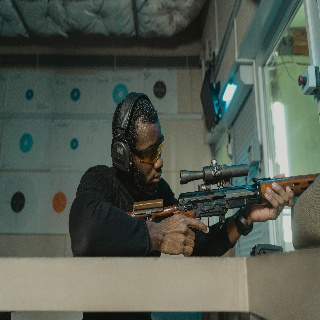rifle: (121, 158, 314, 237)
